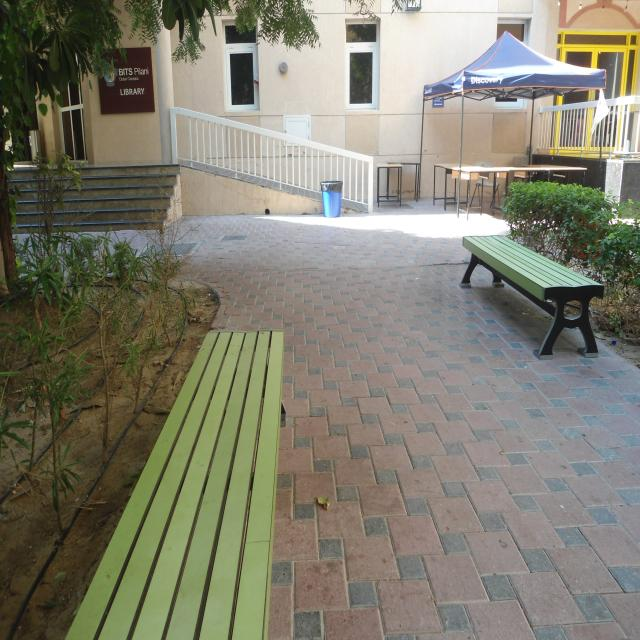bench: (63, 321, 289, 640), (458, 221, 606, 379)
bush: (3, 219, 210, 538), (501, 174, 640, 350)
door: (557, 23, 640, 152)
dustbin: (320, 172, 348, 225)
pillar: (151, 0, 186, 166)
railing: (168, 108, 377, 224), (539, 95, 640, 159)
stairs: (0, 161, 186, 239)
tree-chair-bench-table-wall: (5, 0, 322, 285)
